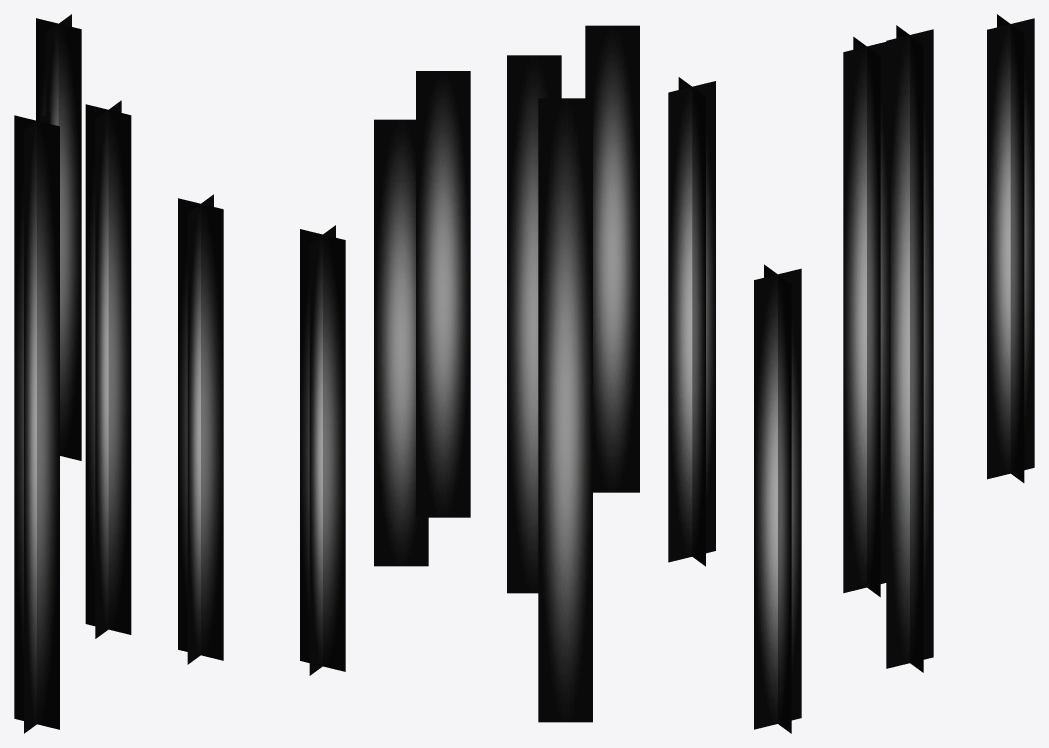
Rendered from vfx_kurp_0617.dae.
3 views of the same model, side by side, from view 1: azimuth 30°, elevation 25°; view 2: azimuth 150°, elevation 25°; view 3: azimuth 270°, elevation 25° (orthographic). The views are drawn at different scales.
Parts seen in each view (by area): view 1: vfx_kurp_0617; view 2: vfx_kurp_0617; view 3: vfx_kurp_0617.
Boxes of the visible parts, bbox=[...] form: vfx_kurp_0617: bbox=[14, 14, 345, 733]; vfx_kurp_0617: bbox=[374, 25, 639, 722]; vfx_kurp_0617: bbox=[668, 14, 1034, 733].
Size of the model in its own units: 8.94 by 10.39 by 21.13.
1 material, 1 textured.
